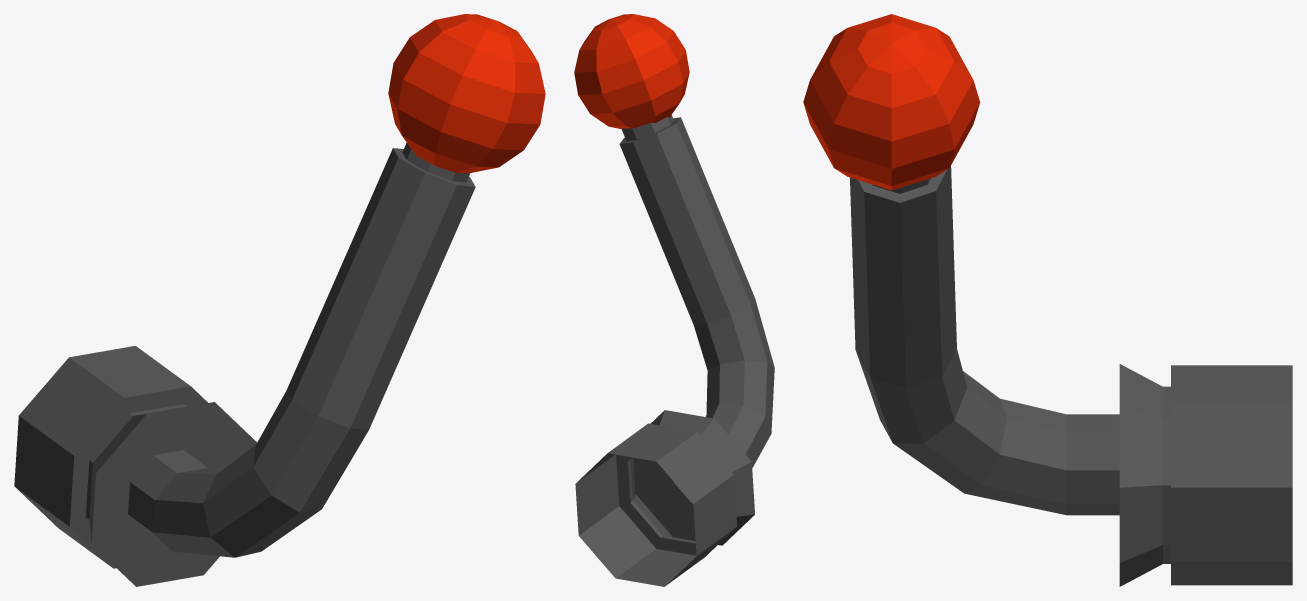
File: Rychag.fbx
3 renders of one model, left to right at view 1: azimuth 30°, elevation 25°; view 2: azimuth 150°, elevation 25°; view 3: azimuth 270°, elevation 25°, orthographic. The views are drawn at different scales.
Visible parts, largest first — view 1: Sphere.001; view 2: Sphere.001; view 3: Sphere.001.
Boxes of the visible parts, left/top/right/bottom form: Sphere.001: left=14, top=14, right=545, bottom=586; Sphere.001: left=574, top=14, right=774, bottom=586; Sphere.001: left=803, top=14, right=1292, bottom=586.
Bounding box in the file's own units: 32.05 × 53.08 × 36.2.
